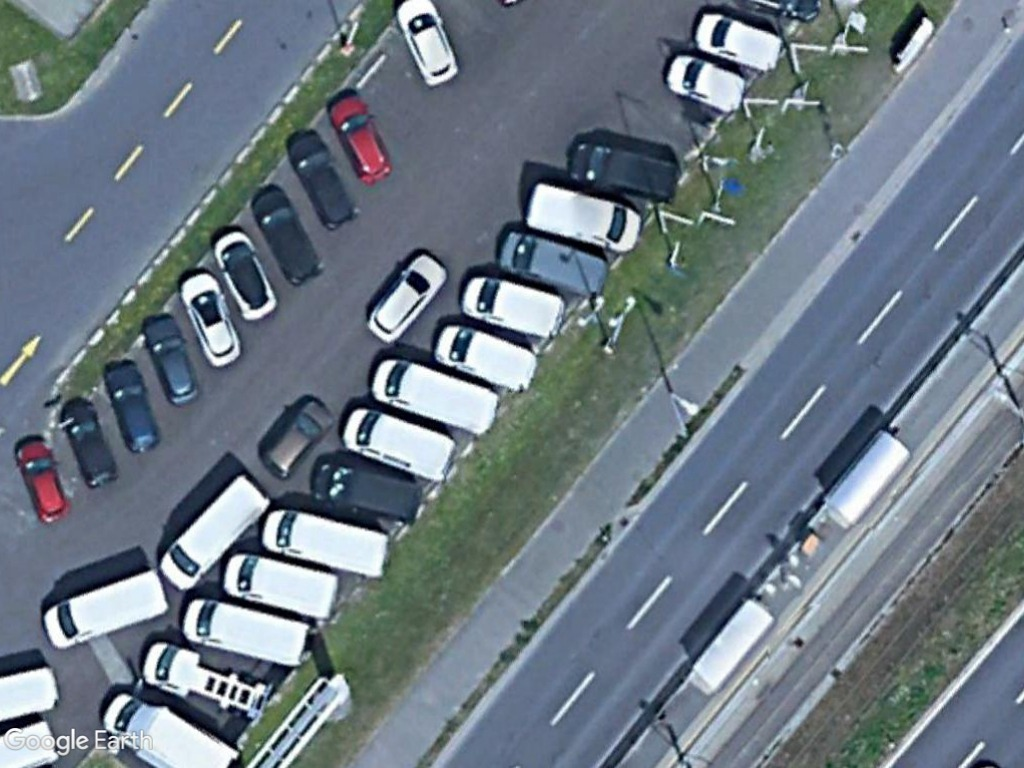car: (364, 246, 448, 342), (250, 184, 326, 290), (287, 130, 361, 236), (259, 397, 337, 481), (327, 89, 395, 184), (179, 272, 245, 369), (211, 230, 277, 323), (391, 1, 461, 87), (140, 312, 200, 406), (102, 361, 162, 455), (59, 399, 120, 491), (662, 55, 748, 114), (15, 440, 72, 524)
van: (158, 470, 272, 596), (37, 564, 169, 654), (178, 585, 310, 675), (368, 357, 501, 438), (261, 506, 389, 583), (519, 180, 645, 256), (341, 405, 455, 486), (304, 454, 422, 528), (566, 139, 684, 207), (220, 551, 340, 617), (432, 318, 537, 393), (498, 230, 609, 299), (460, 273, 568, 339), (690, 12, 785, 74)
